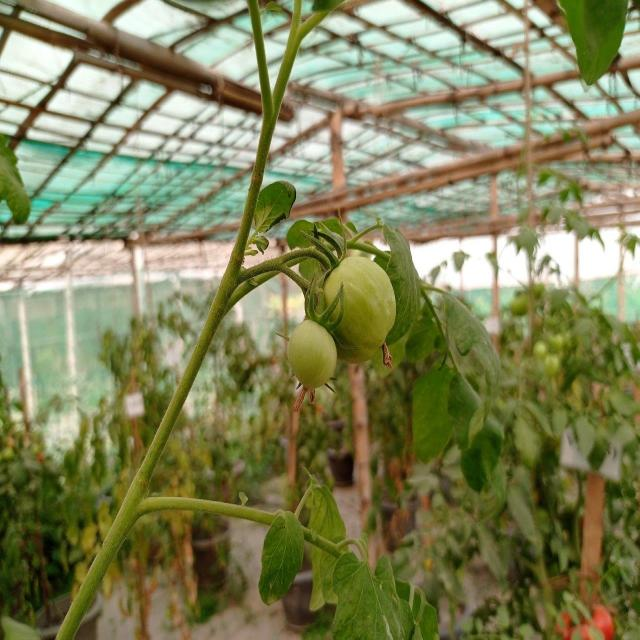Unripe: (318, 252, 397, 360)
